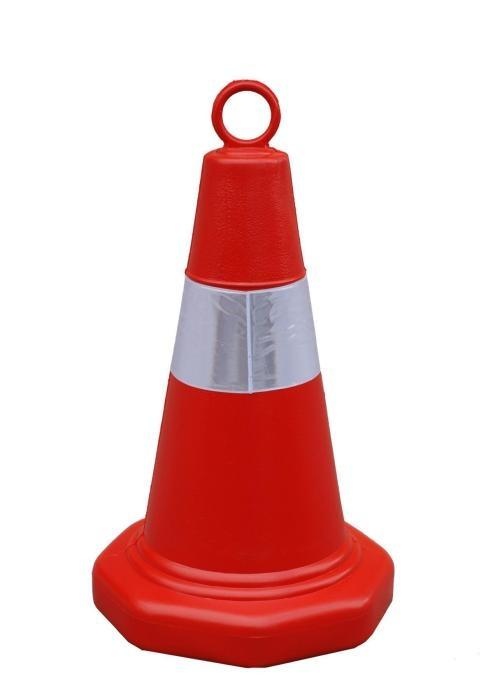cone_barrel: (125, 69, 376, 635)
